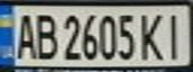0: (97, 10, 118, 61)
2: (57, 10, 81, 62)
5: (115, 10, 139, 61)
6: (78, 10, 100, 62)
A: (9, 9, 39, 61)
B: (30, 9, 60, 61)
I: (160, 9, 190, 61)
K: (136, 9, 166, 61)
